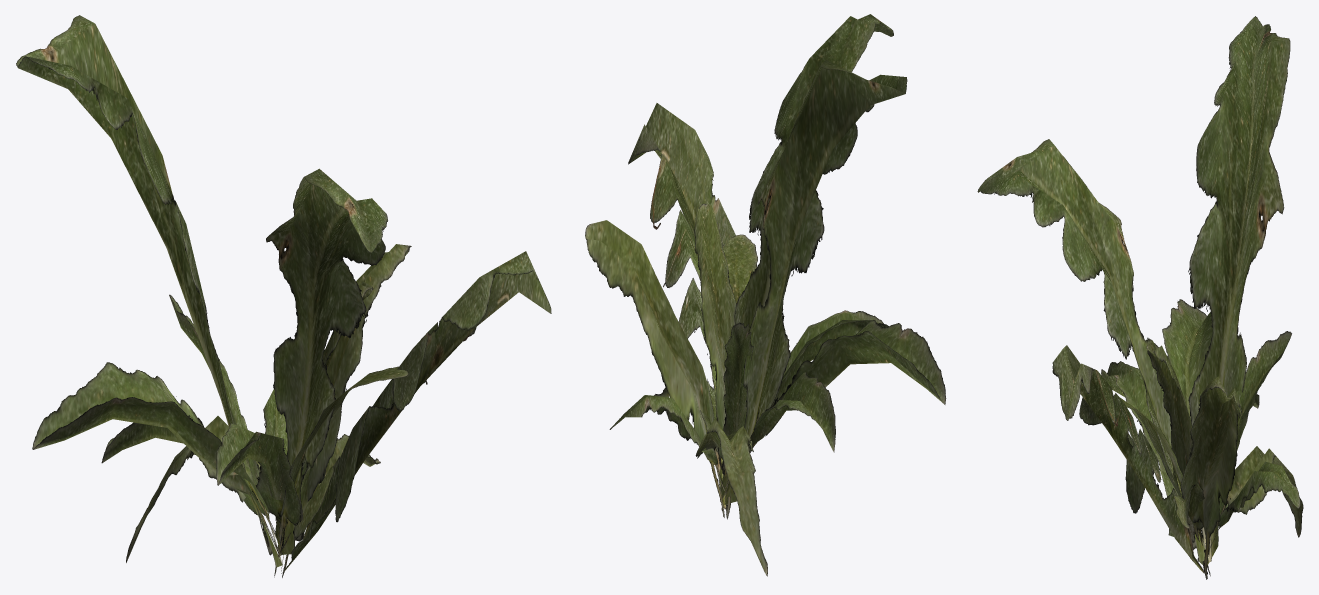
File: flower_gazania_c.fbx
3 renders of one model, left to right at view 1: azimuth 30°, elevation 25°; view 2: azimuth 150°, elevation 25°; view 3: azimuth 270°, elevation 25°, orthographic. The views are drawn at different scales.
Visible parts, largest first — view 1: flower_gazania_c; view 2: flower_gazania_c; view 3: flower_gazania_c.
Part boxes in pixels (<box>): flower_gazania_c: <box>16,15,551,577</box>; flower_gazania_c: <box>585,14,946,576</box>; flower_gazania_c: <box>977,16,1303,579</box>.
Size of the model in its own units: 0.2409 by 0.3 by 0.186.
Materials: 1 (1 with a texture image).
